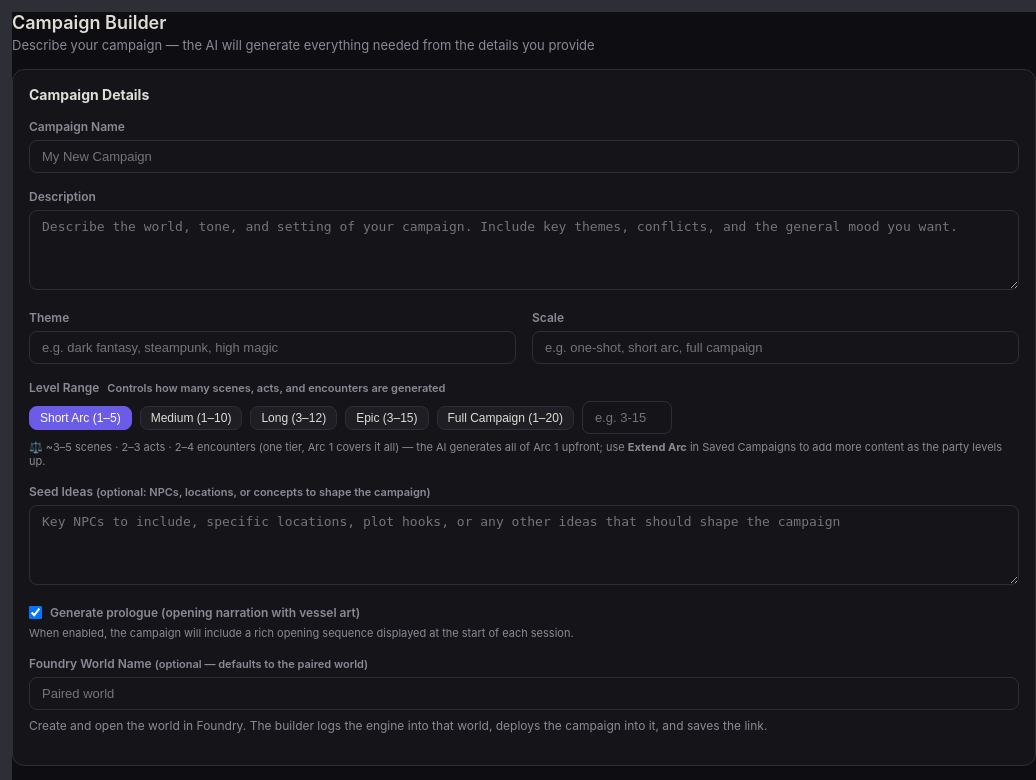
Test: CampaignBuilder › picking Long (3–12) sets the range to 3-12
Step 1. Click the button "Long (3–12)" → click(294, 418), box [250, 406, 337, 430]
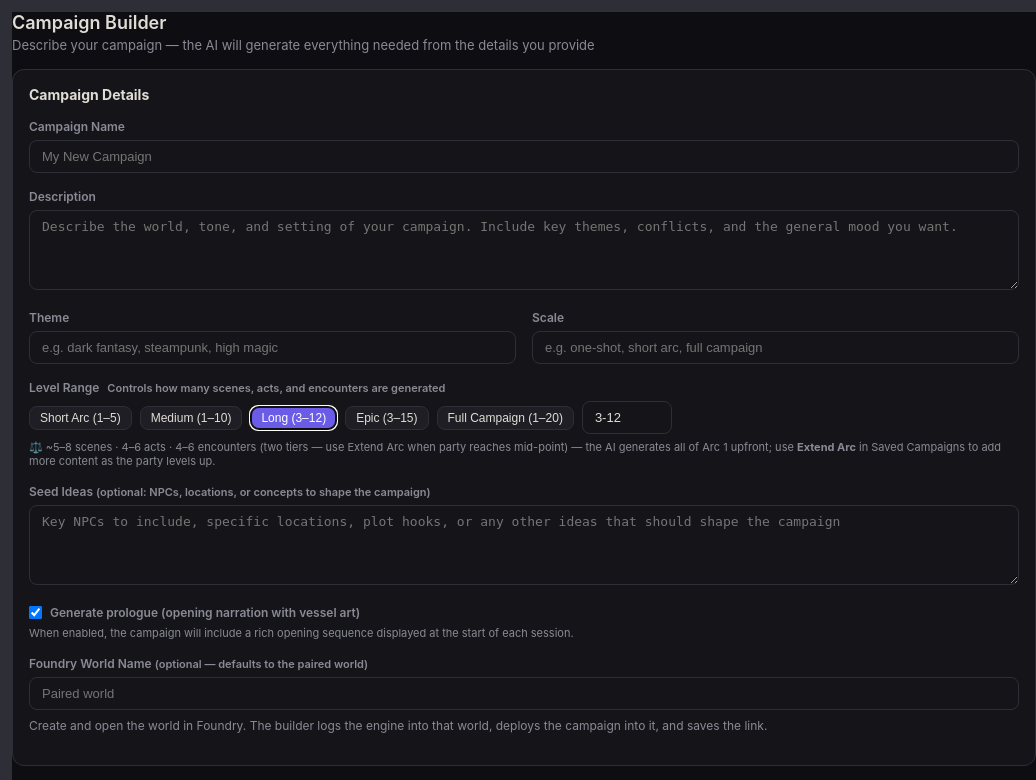
Expected: the field labelled "Level Range" holds "3-12", [582, 401, 672, 434]
